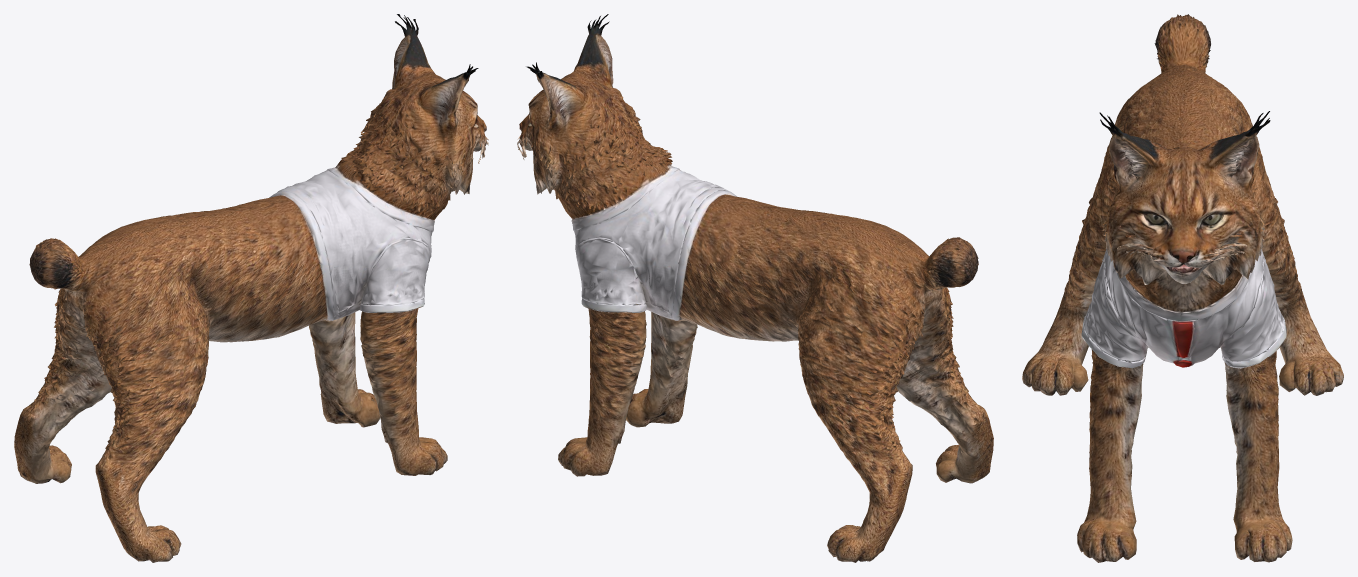
File: BUBSYCAT.glb
3 views of the same model, side by side, from view 1: azimuth 30°, elevation 25°; view 2: azimuth 150°, elevation 25°; view 3: azimuth 270°, elevation 25° (orthographic). The views are drawn at different scales.
Parts seen in each view (by area): view 1: tripo_node_b6b85491-0d62-4cbe-a86d-883aceceed90; view 2: tripo_node_b6b85491-0d62-4cbe-a86d-883aceceed90; view 3: tripo_node_b6b85491-0d62-4cbe-a86d-883aceceed90.
Part boxes in pixels (x1,y1,x2,y2): tripo_node_b6b85491-0d62-4cbe-a86d-883aceceed90: [14, 14, 488, 562]; tripo_node_b6b85491-0d62-4cbe-a86d-883aceceed90: [517, 14, 993, 562]; tripo_node_b6b85491-0d62-4cbe-a86d-883aceceed90: [1022, 14, 1343, 562].
Bounding box in the file's own units: 1.19 × 0.9983 × 0.6172.
1 material, 1 textured.
